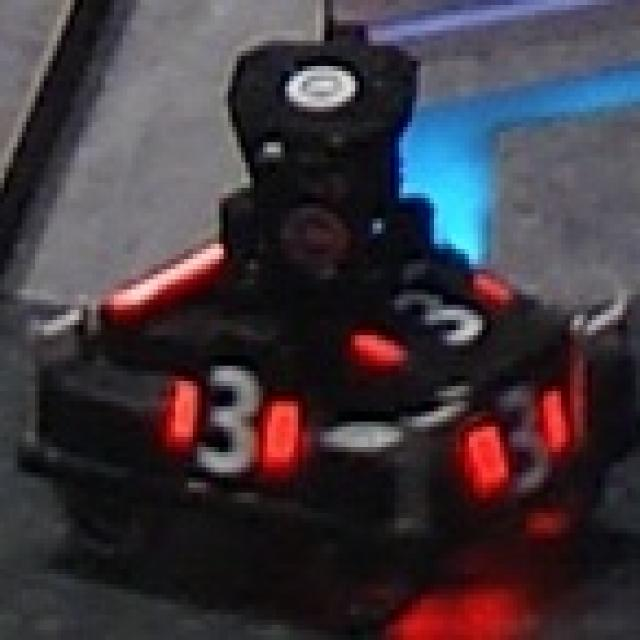R3: (166, 356, 302, 478), (460, 386, 566, 493)
